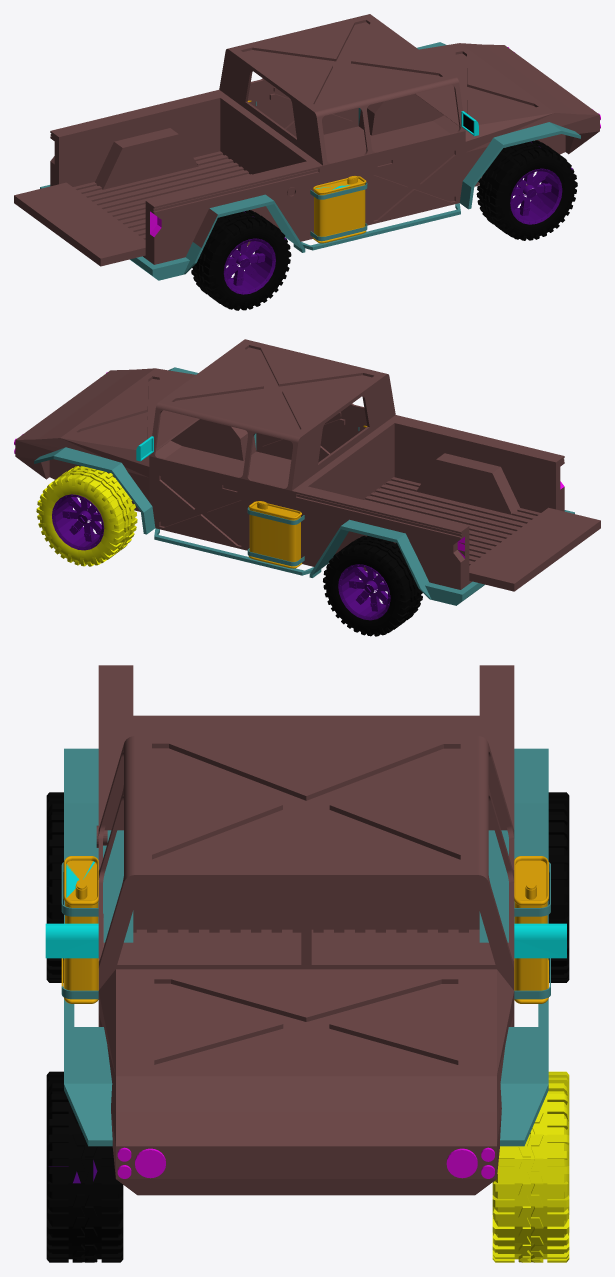
The picture shows the model from 3 angles, top to bottom: view 1: azimuth 30°, elevation 25°; view 2: azimuth 150°, elevation 25°; view 3: azimuth 270°, elevation 25°; orthographic projection. The views are drawn at different scales.
Parts seen in each view (by area): view 1: polySurface77; view 2: polySurface77; view 3: polySurface77.
Part boxes in pixels (box(x1,y1,x2,y2)): polySurface77: box(14, 14, 600, 310); polySurface77: box(14, 339, 600, 636); polySurface77: box(45, 665, 569, 1262).
Bounding box in the file's own units: 556 × 173 × 254.
